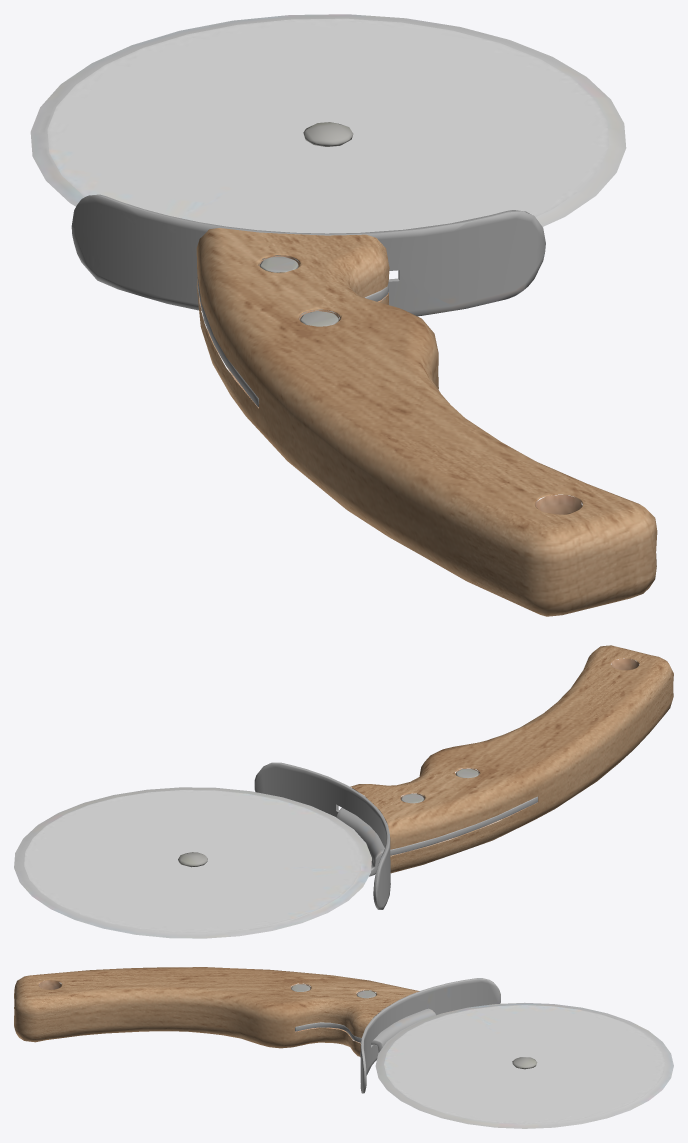
3 renders of one model, top to bottom at view 1: azimuth 30°, elevation 25°; view 2: azimuth 150°, elevation 25°; view 3: azimuth 270°, elevation 25°, orthographic. The views are drawn at different scales.
Parts seen in each view (by area): view 1: 70619017-HAVSTULPAN001; view 2: 70619017-HAVSTULPAN001; view 3: 70619017-HAVSTULPAN001.
Part boxes in pixels (x1,y1,x2,y2): 70619017-HAVSTULPAN001: [30, 14, 657, 616]; 70619017-HAVSTULPAN001: [14, 645, 673, 938]; 70619017-HAVSTULPAN001: [14, 967, 673, 1128].
Size of the model in its own units: 0.1146 by 0.0162 by 0.2211.
2 materials, 2 textured.
